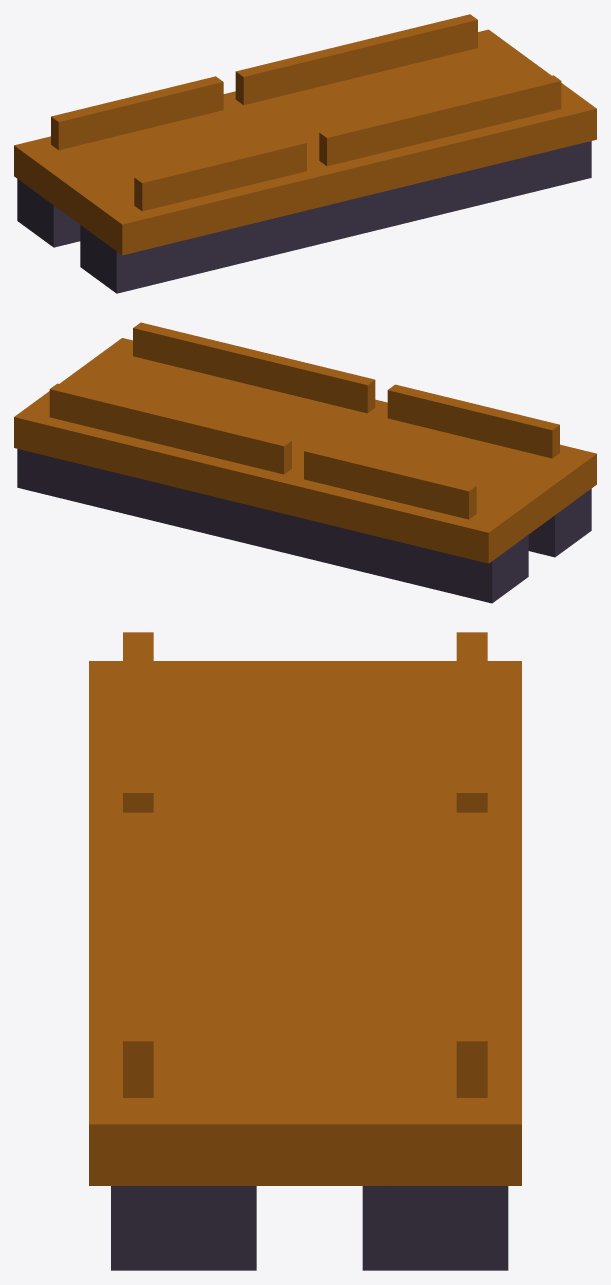
The model's file is SM_Prototype _02.fbx.
3 views of the same model, one above another, from view 1: azimuth 30°, elevation 25°; view 2: azimuth 150°, elevation 25°; view 3: azimuth 270°, elevation 25° (orthographic). The views are drawn at different scales.
Parts seen in each view (by area): view 1: SM_Prototype _02; view 2: SM_Prototype _02; view 3: SM_Prototype _02.
Part boxes in pixels (left/top/right/bottom): SM_Prototype _02: left=14, top=14, right=596, bottom=293; SM_Prototype _02: left=14, top=322, right=596, bottom=603; SM_Prototype _02: left=89, top=632, right=521, bottom=1270.
Size of the model in its own units: 11.26 by 2.3 by 4.45.
